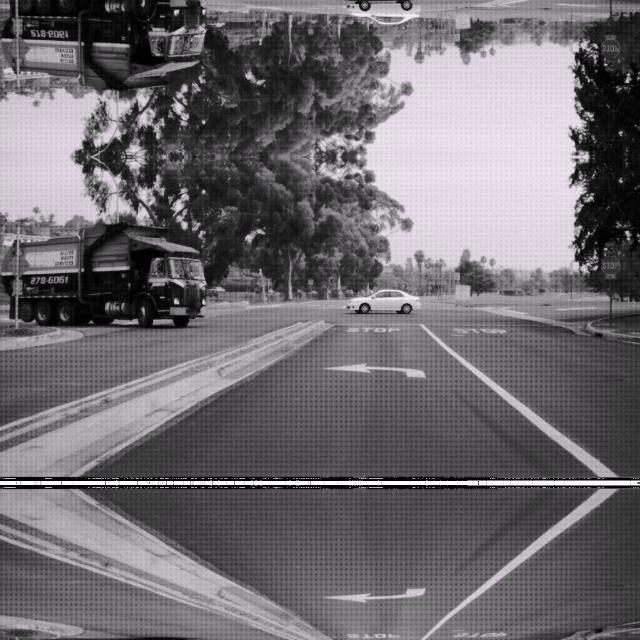stop: (600, 253, 620, 274), (600, 38, 620, 58)
